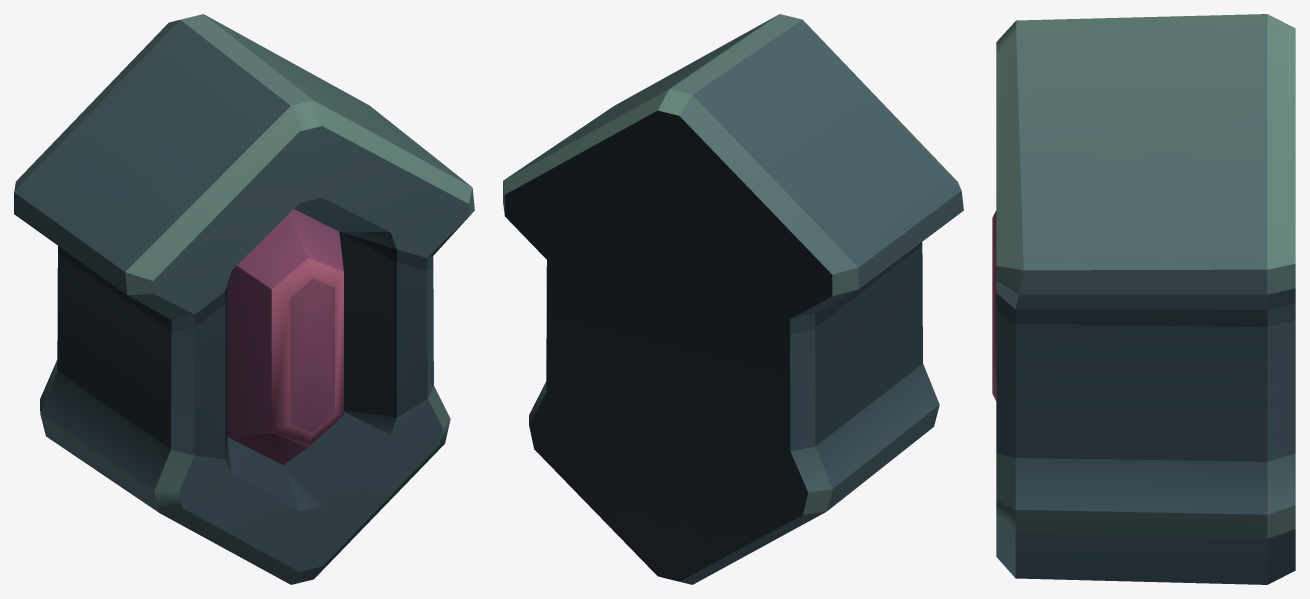
File: ornament_4.fbx
3 renders of one model, left to right at view 1: azimuth 30°, elevation 25°; view 2: azimuth 150°, elevation 25°; view 3: azimuth 270°, elevation 25°, orthographic. The views are drawn at different scales.
Visible parts, largest first — view 1: ornament_4; view 2: ornament_4; view 3: ornament_4.
Part boxes in pixels (x1=…): ornament_4: x1=14, y1=14, x2=474, y2=584; ornament_4: x1=503, y1=14, x2=963, y2=584; ornament_4: x1=992, y1=14, x2=1295, y2=584.
Size of the model in its own units: 137 by 181 by 88.89.
